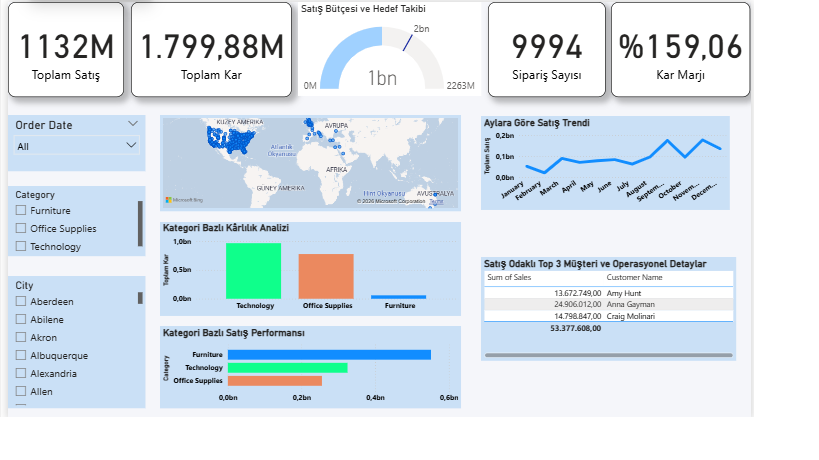

This screenshot's page, from the dashboard's own definition file:
{"tool":"powerbi","page":{"name":"Page 1","canvas":[1280,720],"ordinal":0},"visuals":[{"type":"card","fields":{"Values":["Sample - Superstore.Toplam Satış"]},"box":[0,0,199.5,164],"z":0},{"type":"card","fields":{"Values":["Sample - Superstore.Toplam Kar"]},"box":[211.4,0,277.3,164],"z":1000},{"type":"card","fields":{"Values":["Sample - Superstore.Sipariş Sayısı"]},"box":[826.8,0,202.9,164],"z":2000},{"type":"lineChart","title":"Aylara Göre Satış Trendi","fields":{"Category":["Sample - Superstore.Order Date.Variation.Date Hierarchy.Month"],"Y":["Sample - Superstore.Toplam Satış"]},"box":[815,196.1,429.5,162.3],"z":3000},{"type":"clusteredBarChart","title":"Kategori Bazlı Satış Performansı","fields":{"Category":["Sample - Superstore.Category"],"Y":["Sample - Superstore.Toplam Satış"]},"box":[262.1,558,519.1,142],"z":4000},{"type":"clusteredColumnChart","title":"Kategori Bazlı Kârlılık Analizi","fields":{"Category":["Sample - Superstore.Category"],"Y":["Sample - Superstore.Toplam Kar"]},"box":[262.1,378.8,519.1,162.3],"z":6000},{"type":"card","fields":{"Values":["Sample - Superstore.Kar Marjı"]},"box":[1039.9,0,240.1,164],"z":7000},{"type":"slicer","fields":{"Values":["Sample - Superstore.Order Date"]},"box":[0,195.2,237.1,96.9],"z":8000},{"type":"slicer","fields":{"Values":["Sample - Superstore.Category"]},"box":[0,318.1,237.1,121.4],"z":9000},{"type":"slicer","fields":{"Values":["Sample - Superstore.City"]},"box":[0,472,236.9,228.5],"z":10000},{"type":"map","fields":{"Category":["Sample - Superstore.City"]},"box":[262.1,194.5,519.1,165.7],"z":10001},{"type":"gauge","title":"Satış Bütçesi ve Hedef Takibi","fields":{"Y":["Sample - Superstore.Toplam Satış"]},"box":[500,0,315.5,162.1],"z":10002},{"type":"tableEx","title":"Satış Odaklı Top 3 Müşteri ve Operasyonel Detaylar","fields":{"Values":["Sum(Sample - Superstore.Sales)","Sample - Superstore.Customer Name"]},"box":[815,439.6,439.6,179.2],"z":10003}]}

Visuals, with their boxes in screenshot pixels (x1, y1, x2, y2), scaled from the page's 1280x720 canvas onto the 819x460 screenshot:
card - Sample - Superstore.Toplam Satış: [left=0, top=0, right=128, bottom=105]
card - Sample - Superstore.Toplam Kar: [left=135, top=0, right=313, bottom=105]
card - Sample - Superstore.Sipariş Sayısı: [left=529, top=0, right=659, bottom=105]
"Aylara Göre Satış Trendi" lineChart: [left=521, top=125, right=796, bottom=229]
"Kategori Bazlı Satış Performansı" clusteredBarChart: [left=168, top=356, right=500, bottom=447]
"Kategori Bazlı Kârlılık Analizi" clusteredColumnChart: [left=168, top=242, right=500, bottom=346]
card - Sample - Superstore.Kar Marjı: [left=665, top=0, right=818, bottom=105]
slicer - Sample - Superstore.Order Date: [left=0, top=125, right=152, bottom=187]
slicer - Sample - Superstore.Category: [left=0, top=203, right=152, bottom=281]
slicer - Sample - Superstore.City: [left=0, top=302, right=152, bottom=448]
map - Sample - Superstore.City: [left=168, top=124, right=500, bottom=230]
"Satış Bütçesi ve Hedef Takibi" gauge: [left=320, top=0, right=522, bottom=104]
"Satış Odaklı Top 3 Müşteri ve Operasyonel Detaylar" tableEx: [left=521, top=281, right=803, bottom=395]
